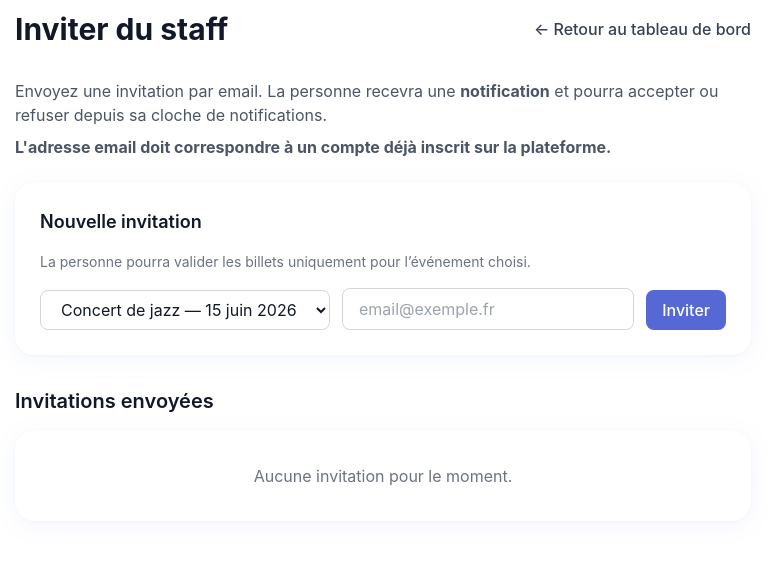
it: StaffInvitationsPage - form › shows an error when sending the invitation fails
This screenshot has width=767, height=567.
Expected: the dropdown named "Événement concerné" is shown, [40, 290, 330, 330]
Type "nobody@example.com" into the field named "Adresse email de la personne à inviter" at (488, 309), box [342, 288, 634, 330]
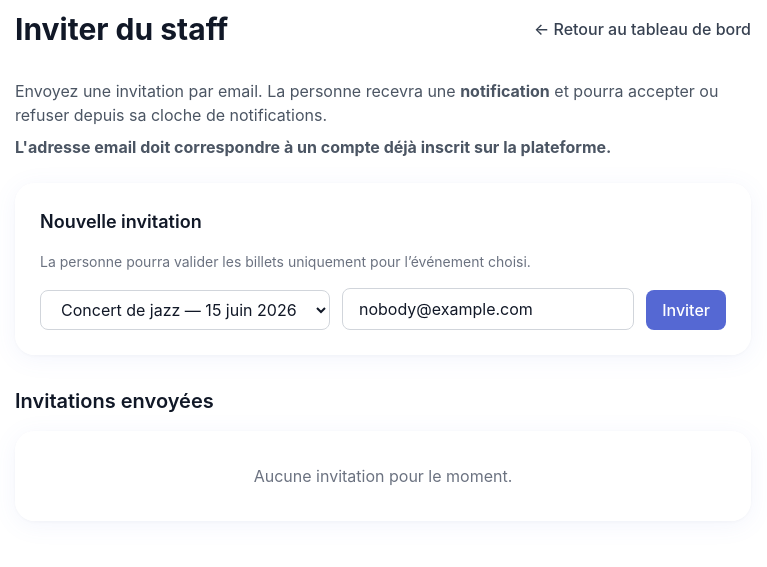
Click the button "Inviter" at (686, 310), box [646, 290, 726, 330]
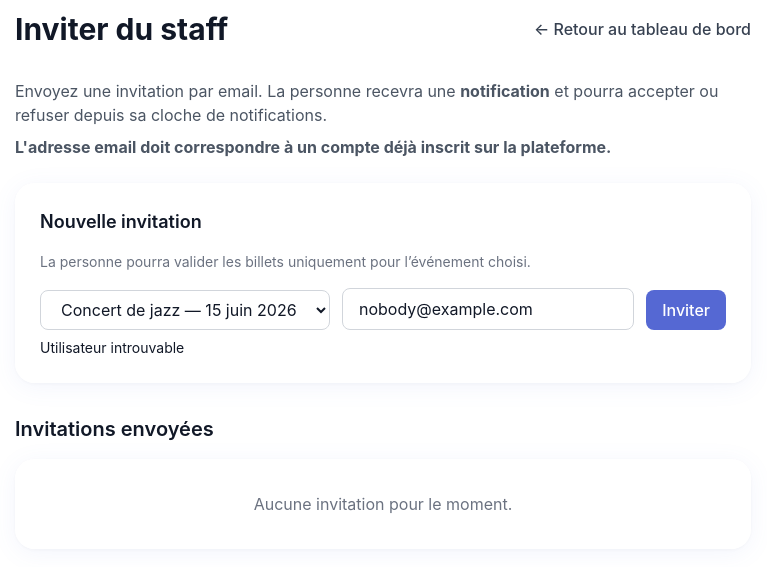
Expected: the text "Utilisateur introuvable" is shown, [40, 339, 184, 356]
